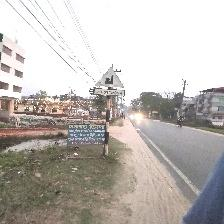Mosque in front: (92, 66, 125, 97)
